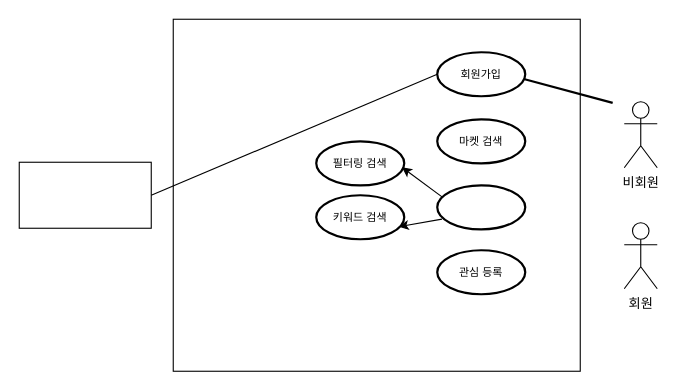
This 678x391 diagram has some shape labels left out. Each missing label, with the centre of its shape:
"Apple" goes at point (84, 194).
"상품 검색" goes at point (481, 207).
